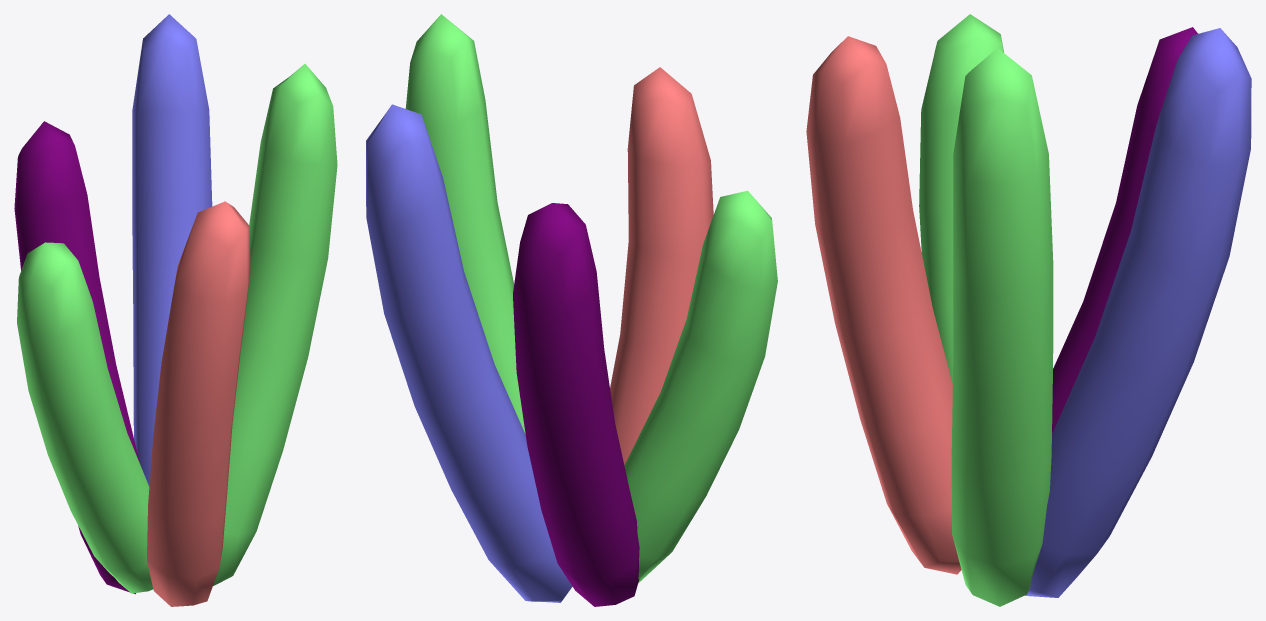
Rendered from Grass_Long01.fbx.
3 renders of one model, left to right at view 1: azimuth 30°, elevation 25°; view 2: azimuth 150°, elevation 25°; view 3: azimuth 270°, elevation 25°, orthographic. The views are drawn at different scales.
Parts seen in each view (by area): view 1: Low_Grass_Long01; view 2: Low_Grass_Long01; view 3: Low_Grass_Long01.
Boxes of the visible parts, x1,y1,x2,y2 form: Low_Grass_Long01: (14,14,337,606); Low_Grass_Long01: (366,14,777,606); Low_Grass_Long01: (806,14,1251,606).
Size of the model in its own units: 489 by 737 by 479.
